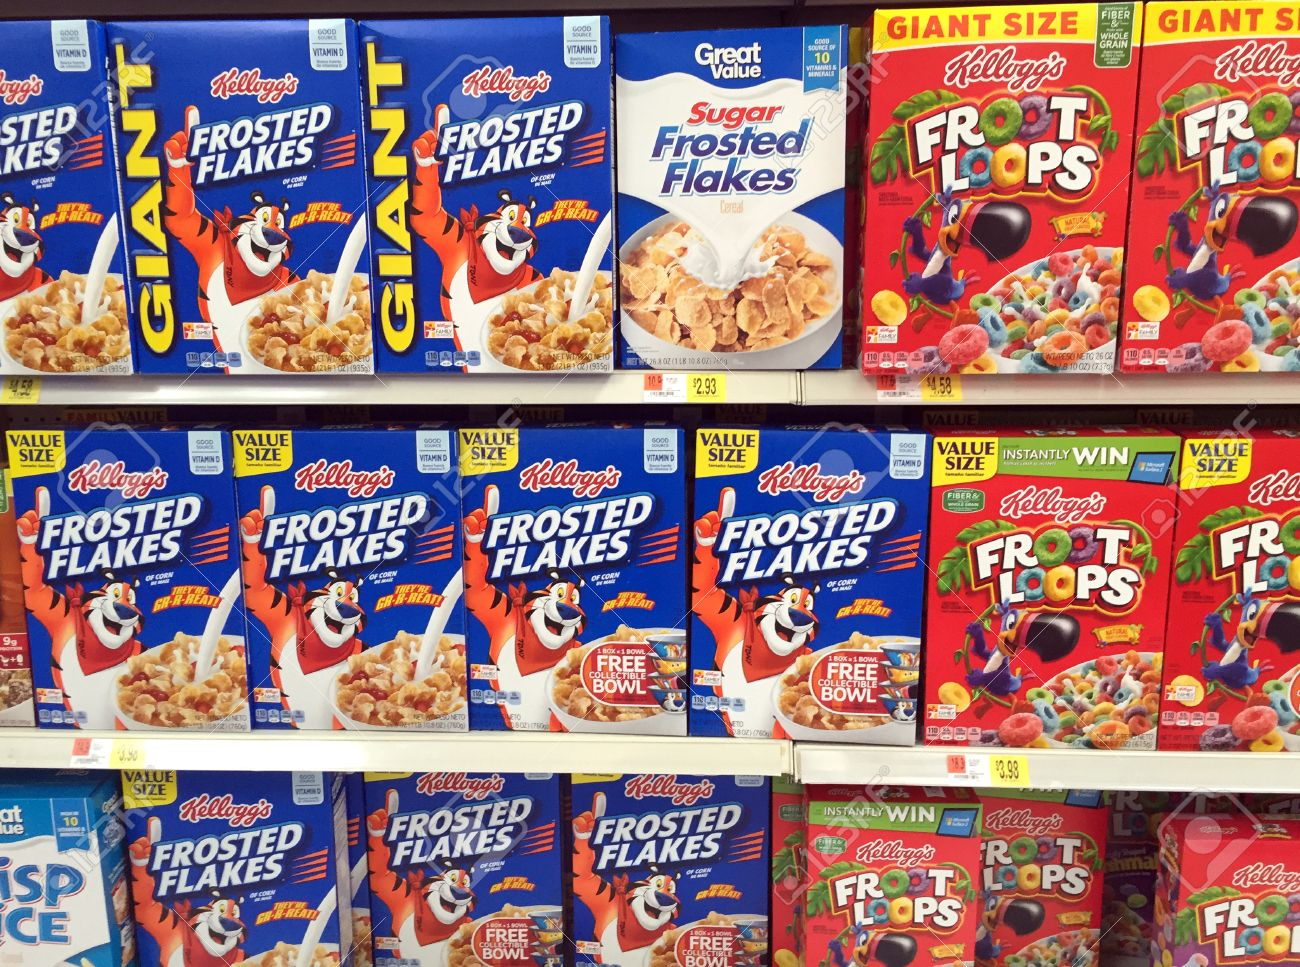cereal: (361, 22, 611, 376), (877, 15, 1116, 372), (129, 25, 353, 381), (615, 36, 845, 371), (698, 429, 918, 747), (935, 440, 1158, 753), (238, 433, 460, 729), (465, 431, 679, 738), (26, 440, 225, 732), (1146, 11, 1300, 371), (371, 771, 558, 967), (141, 780, 329, 967), (579, 778, 765, 967), (807, 802, 969, 967), (971, 815, 1118, 967)
